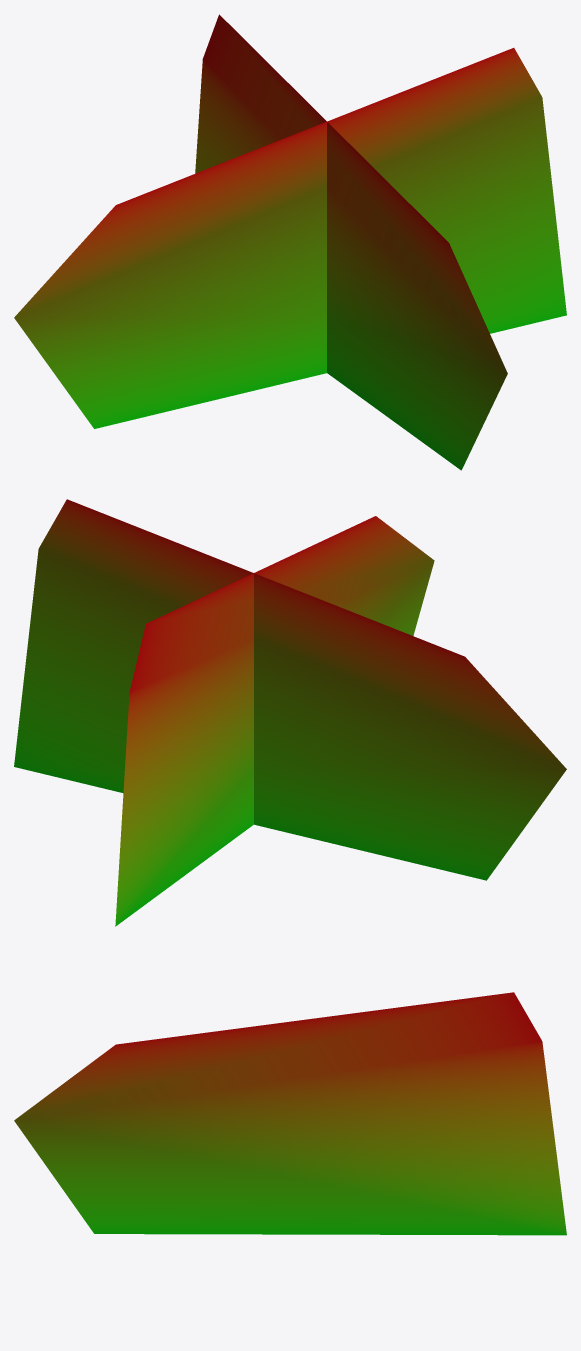
The model's file is Var4_LOD4.fbx.
3 renders of one model, top to bottom at view 1: azimuth 30°, elevation 25°; view 2: azimuth 150°, elevation 25°; view 3: azimuth 270°, elevation 25°, orthographic. The views are drawn at different scales.
Parts seen in each view (by area): view 1: _k7ig_Var4_LOD4; view 2: _k7ig_Var4_LOD4; view 3: _k7ig_Var4_LOD4.
Boxes of the visible parts, left/top/right/bottom form: _k7ig_Var4_LOD4: left=14, top=14, right=566, bottom=470; _k7ig_Var4_LOD4: left=14, top=499, right=566, bottom=926; _k7ig_Var4_LOD4: left=14, top=992, right=566, bottom=1235.
Size of the model in its own units: 32.53 by 15.78 by 32.53.
